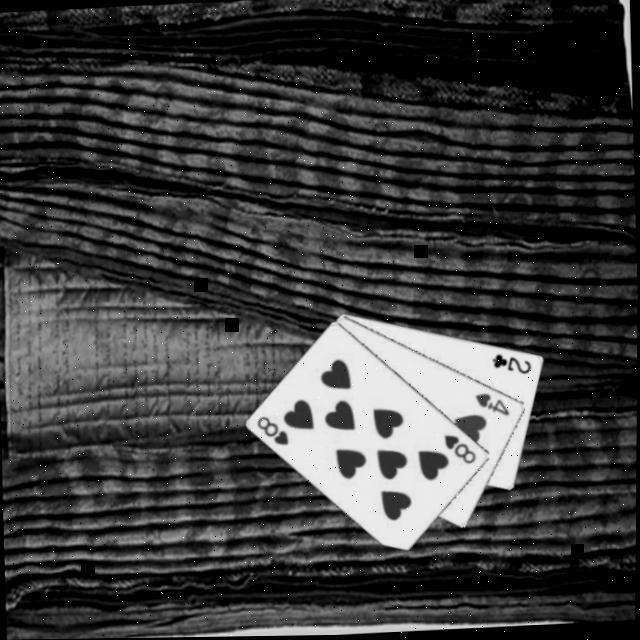2C: (488, 350, 534, 380)
4H: (472, 391, 512, 422)
8H: (441, 432, 479, 469), (254, 414, 292, 451)
